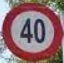Gioi han toc do: (3, 3, 63, 59)
